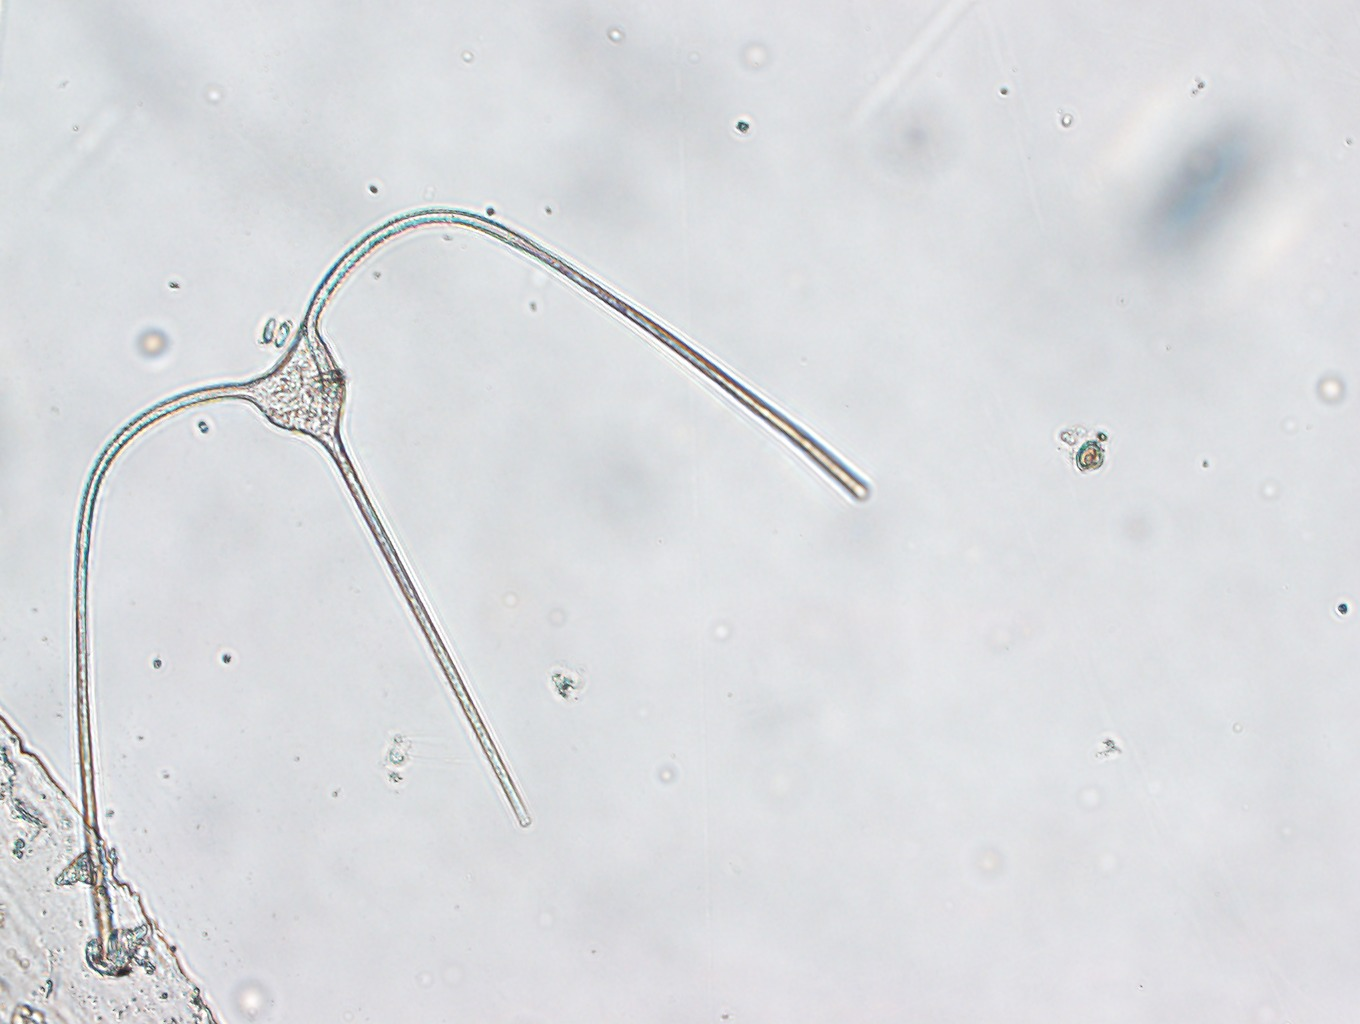ceratium trichoceros: (56, 196, 881, 964)
